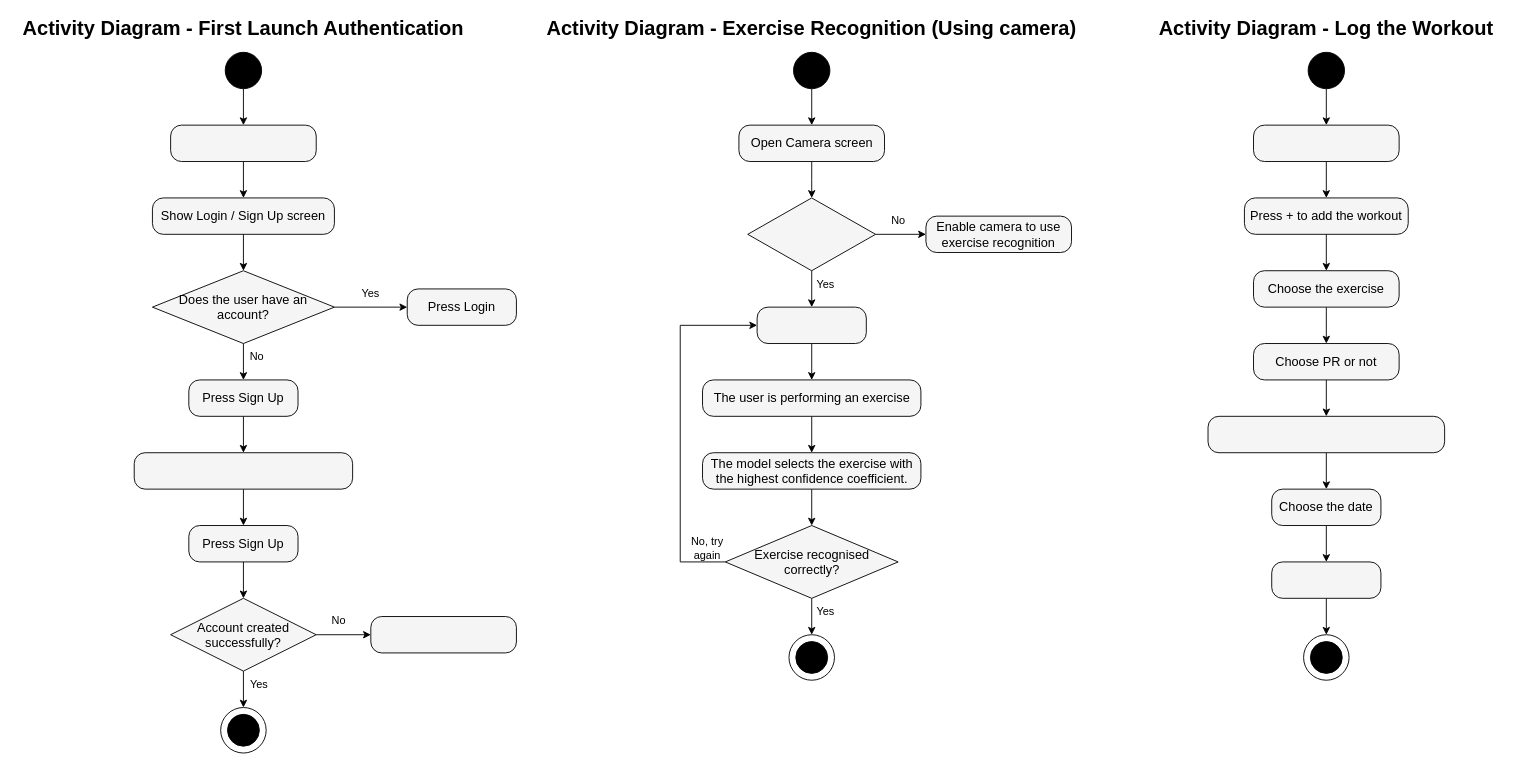
Image size: 1514x769. Some labels were removed from this diagram. Here are the shapes that lost their labels. From the top down, the centre of each, then its label:
point (243, 143): Open PoseFit AI app
point (1326, 143): Enter the Loging page
point (811, 234): Grant camera permition?
point (811, 325): Start recording
point (1326, 434): Enter amount of sets, reps and weight.
point (243, 470): Enter email, username, password
point (1326, 579): Press "Add"
point (443, 634): Receive error message
